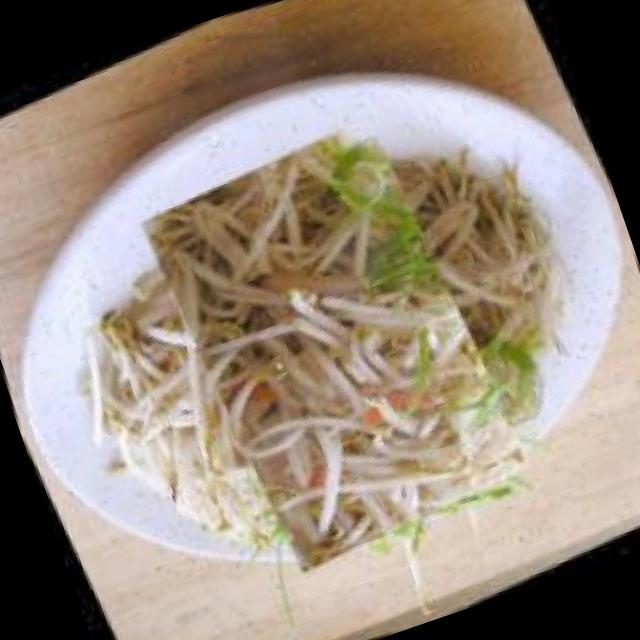mung_bean_sprouts: (84, 90, 586, 592)
